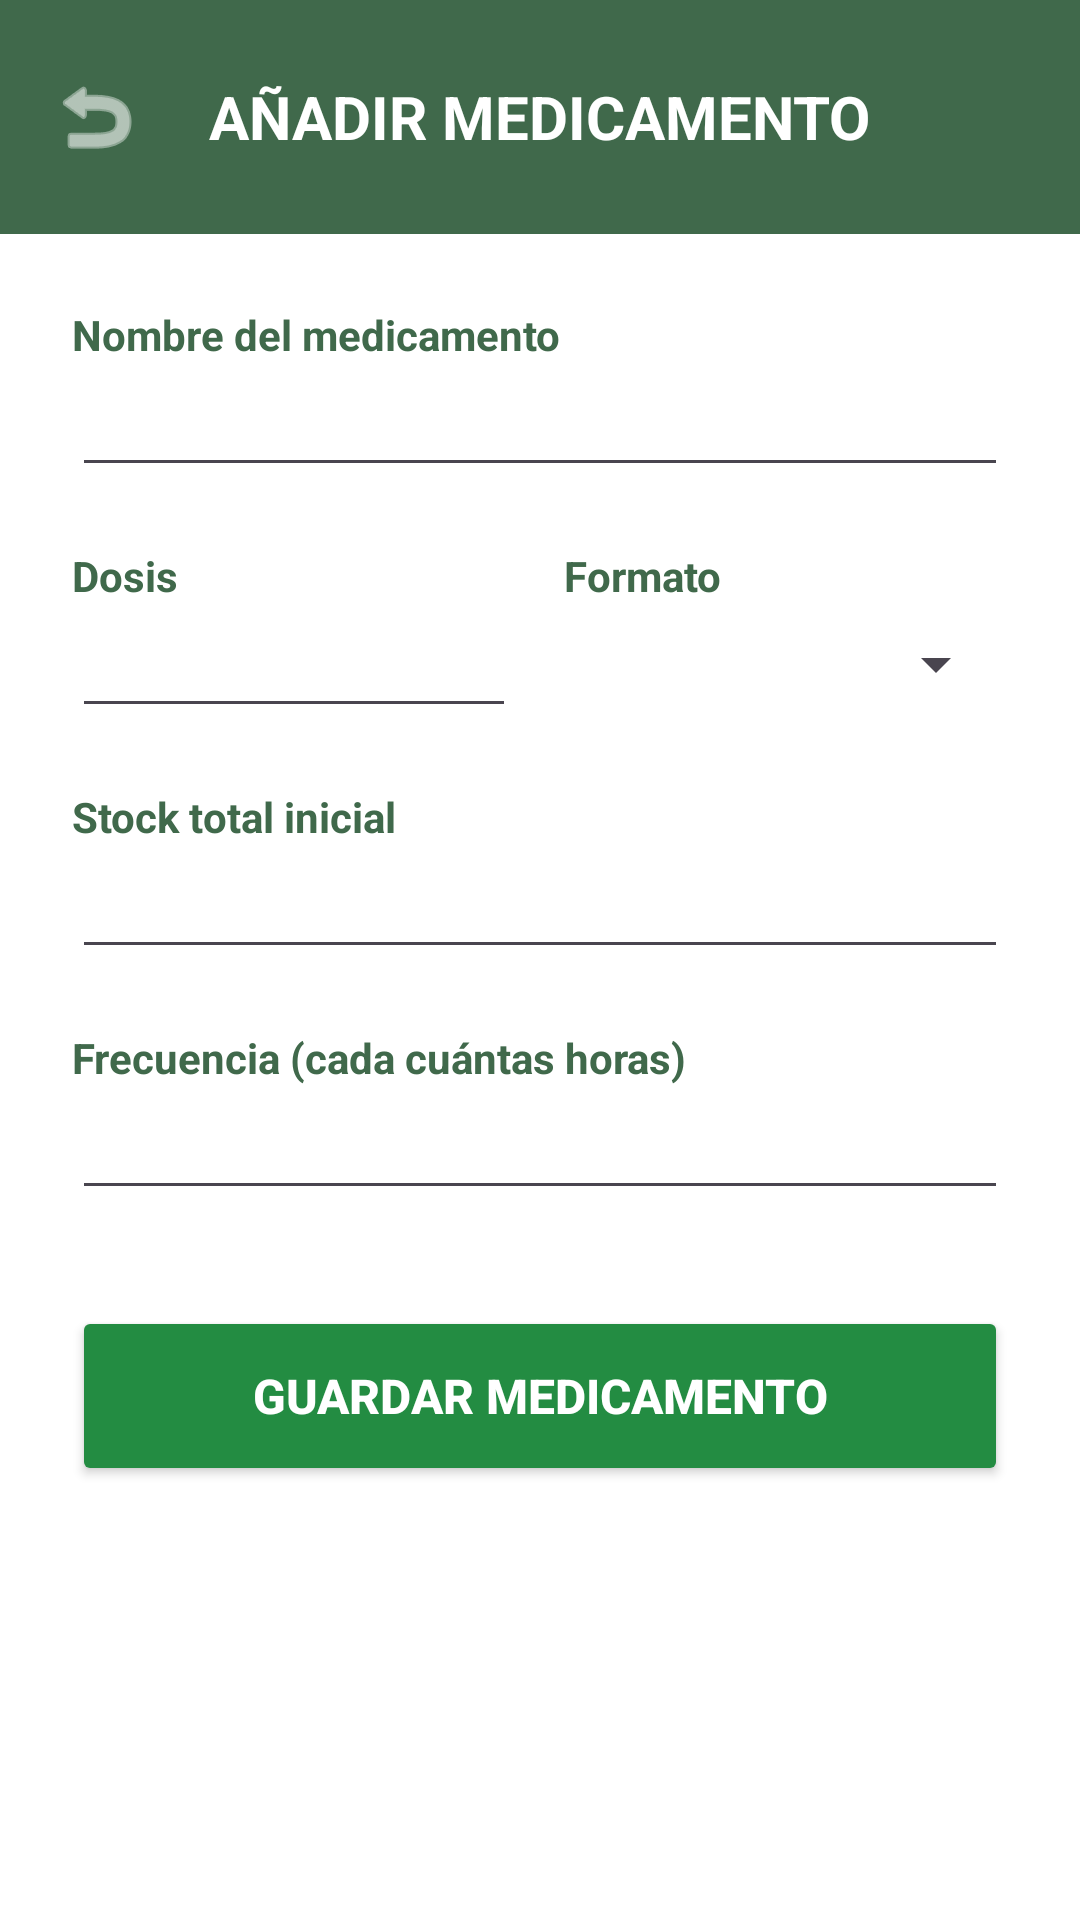

Icon bounding boxes for this 1080w x 1920h phone screenshot, format (x1, y1, x2, y2):
revert: (63, 86, 132, 149)
